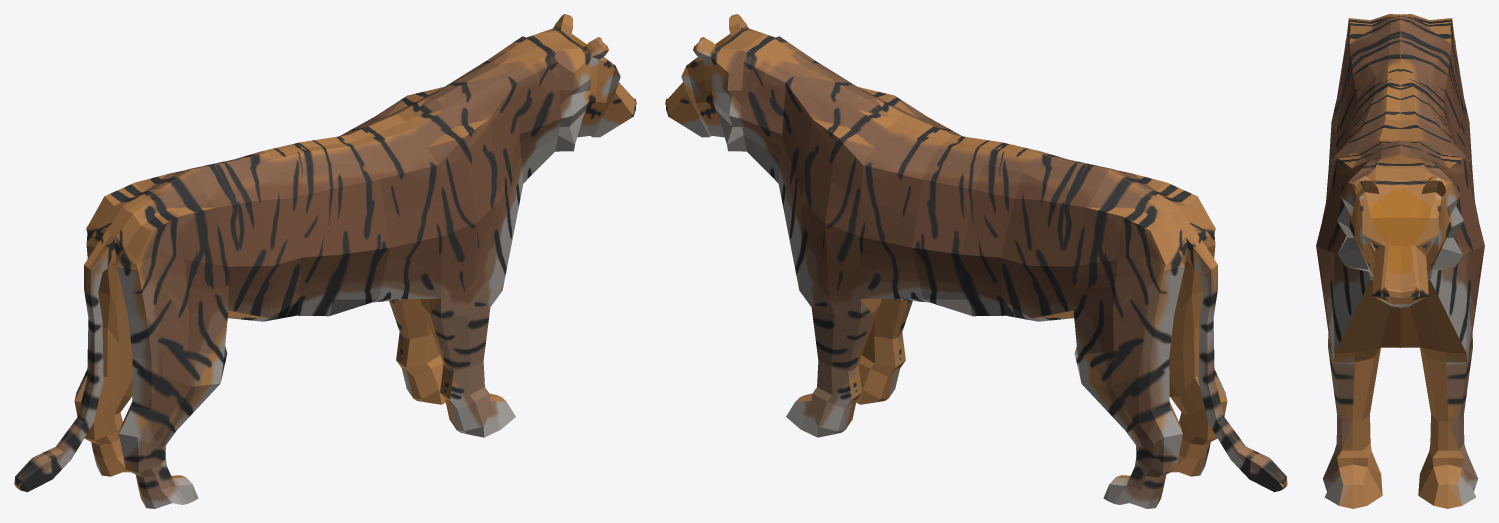
The model's file is Harimau.fbx.
3 renders of one model, left to right at view 1: azimuth 30°, elevation 25°; view 2: azimuth 150°, elevation 25°; view 3: azimuth 270°, elevation 25°, orthographic. The views are drawn at different scales.
Parts seen in each view (by area): view 1: Cube.004; view 2: Cube.004; view 3: Cube.004.
Part boxes in pixels (left/top/right/bottom): Cube.004: left=14, top=14, right=636, bottom=508; Cube.004: left=665, top=14, right=1287, bottom=508; Cube.004: left=1316, top=14, right=1484, bottom=508.
Size of the model in its own units: 3.15 by 1.74 by 0.6849.
Materials: 1 (1 with a texture image).
